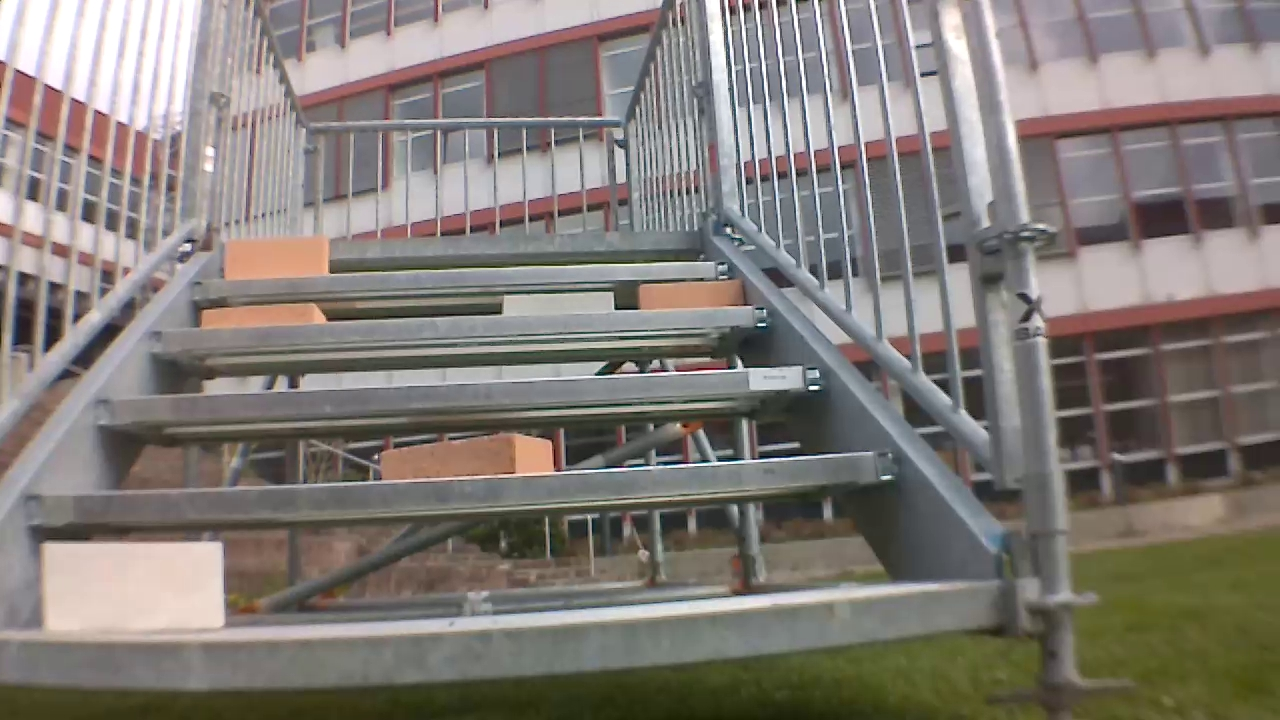brick: (43, 540, 223, 629), (379, 433, 551, 479), (223, 236, 328, 279), (638, 279, 742, 310), (201, 301, 325, 325), (501, 291, 613, 315)
edge: (4, 586, 1008, 684), (26, 452, 897, 524), (97, 365, 820, 419), (150, 304, 770, 349), (191, 261, 731, 296), (215, 232, 698, 254)
stairs: (3, 8, 1097, 718)
steps: (2, 225, 1015, 694)
